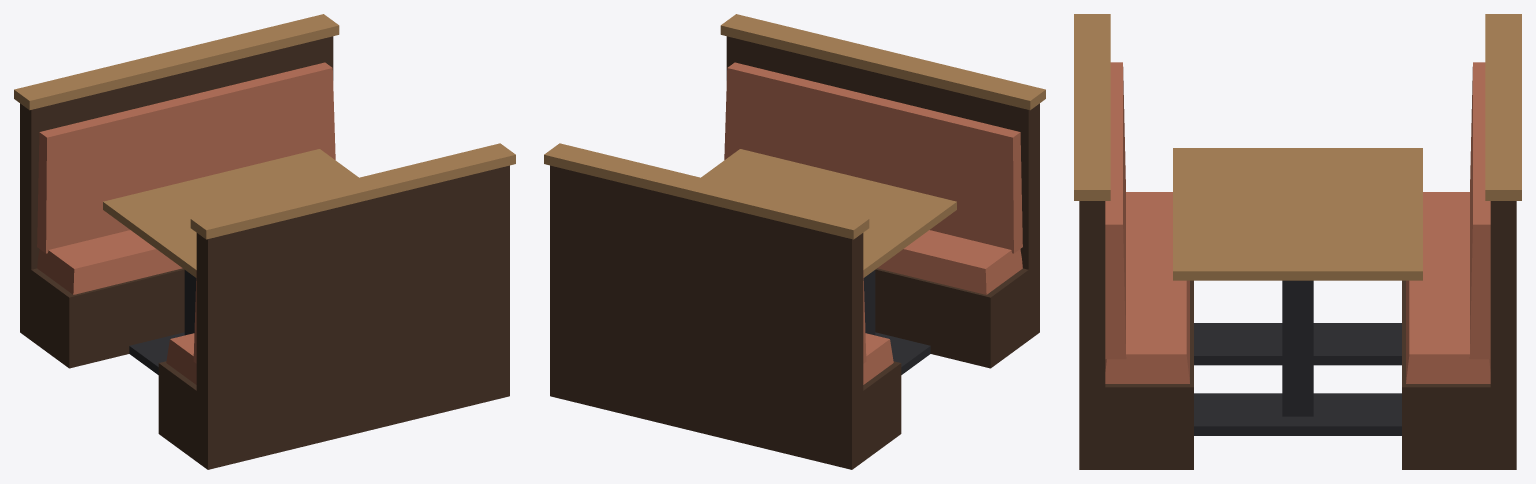
Rendered from FN_Booth_Bar.glb.
3 renders of one model, left to right at view 1: azimuth 30°, elevation 25°; view 2: azimuth 150°, elevation 25°; view 3: azimuth 270°, elevation 25°, orthographic. The views are drawn at different scales.
Parts seen in each view (by area): view 1: FN_Booth_Bar; view 2: FN_Booth_Bar; view 3: FN_Booth_Bar.
Part boxes in pixels (box(x1,y1,x2,y2)): FN_Booth_Bar: box(14, 14, 515, 469); FN_Booth_Bar: box(544, 14, 1045, 469); FN_Booth_Bar: box(1074, 14, 1521, 469).
Size of the model in its own units: 1.6 by 1.2 by 1.72.
Materials: 1 (1 with a texture image).
